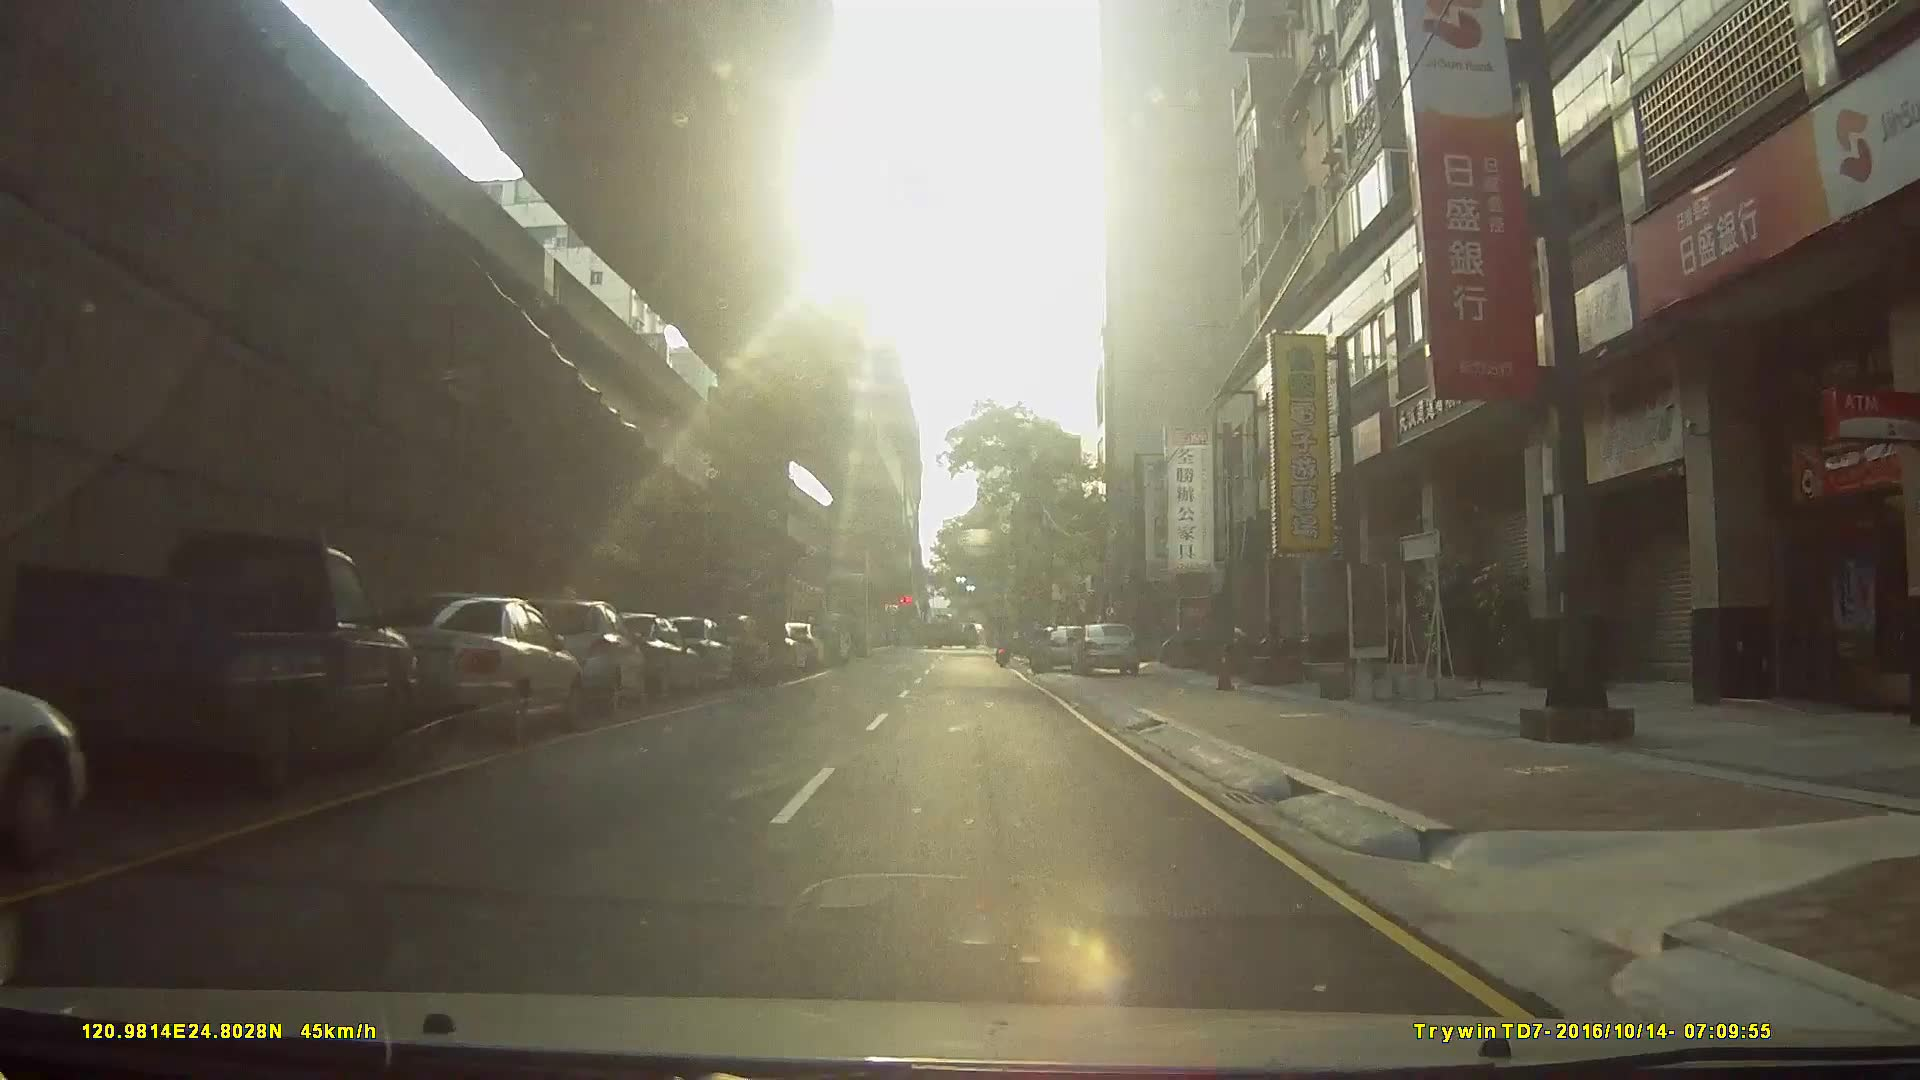vehicle: (5, 526, 423, 804), (344, 588, 578, 745), (1, 669, 113, 870), (497, 593, 642, 719), (582, 608, 696, 704), (651, 612, 732, 688), (694, 611, 770, 684), (1067, 618, 1145, 674), (1027, 622, 1091, 673), (915, 611, 989, 647)
